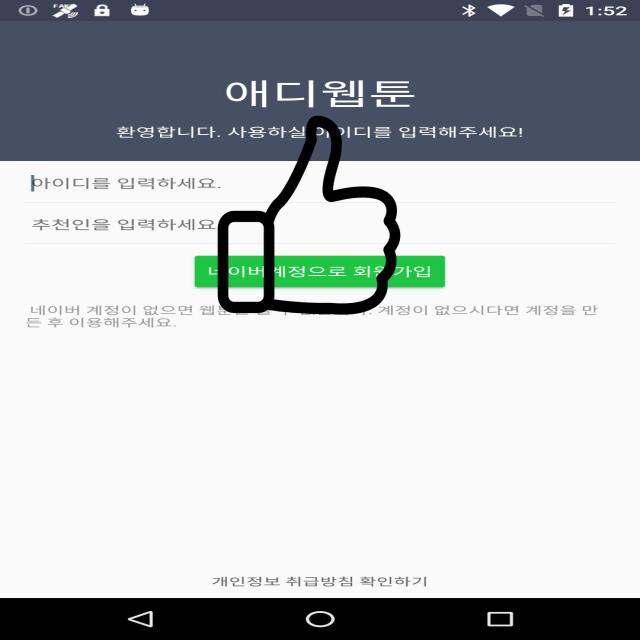privacy zuckering: (215, 116, 403, 314)
